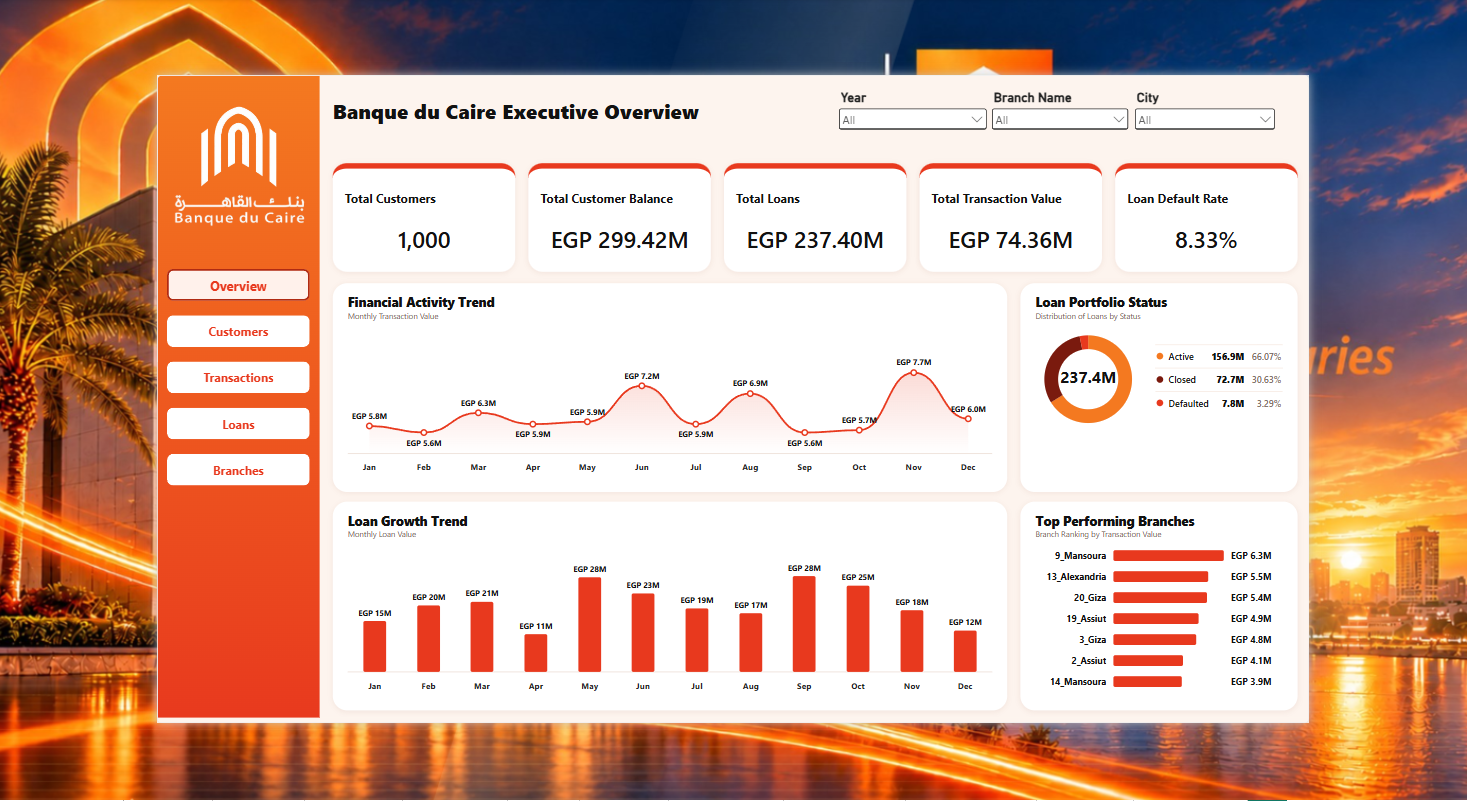

The page's visual inventory and layout, read from the dashboard file:
{"tool":"powerbi","page":{"name":"Overview","canvas":[1920,1080],"ordinal":1},"visuals":[{"type":"htmlContent443BE3AD55E043BF878BED274D3A6855","fields":{"content":["Html.HTML Banque Overview"]},"box":[0,0,1920,1080],"z":0},{"type":"image","box":[38.4,0,195,240.5],"z":1000},{"type":"image","box":[0,162.5,255,131.2],"z":2000},{"type":"pageNavigator","box":[16.7,323.3,238.9,361.1],"z":3000},{"type":"slicer","fields":{"Values":["Branches Dim.City"]},"box":[1624.3,24.3,242.9,95.7],"z":4000},{"type":"slicer","fields":{"Values":["Branches Dim.Branch_Name_City"]},"box":[1387.1,24.3,237.1,95.7],"z":5000},{"type":"slicer","fields":{"Values":["Date Dim.Year"]},"box":[1131.4,24.3,255.7,95.7],"z":6000}]}

Visuals, with their boxes on the page's 1920x1080 design canvas (x1, y1, x2, y2). These are canvas units, not pixel positions in the 1467x801 screenshot, which may show the page scaled, cropped or inside an application window:
htmlContent443BE3AD55E043BF878BED274D3A6855 - Html.HTML Banque Overview: 0,0,1920,1080
image: 38,0,233,240
image: 0,162,255,294
pageNavigator: 17,323,256,684
slicer - Branches Dim.City: 1624,24,1867,120
slicer - Branches Dim.Branch_Name_City: 1387,24,1624,120
slicer - Date Dim.Year: 1131,24,1387,120
